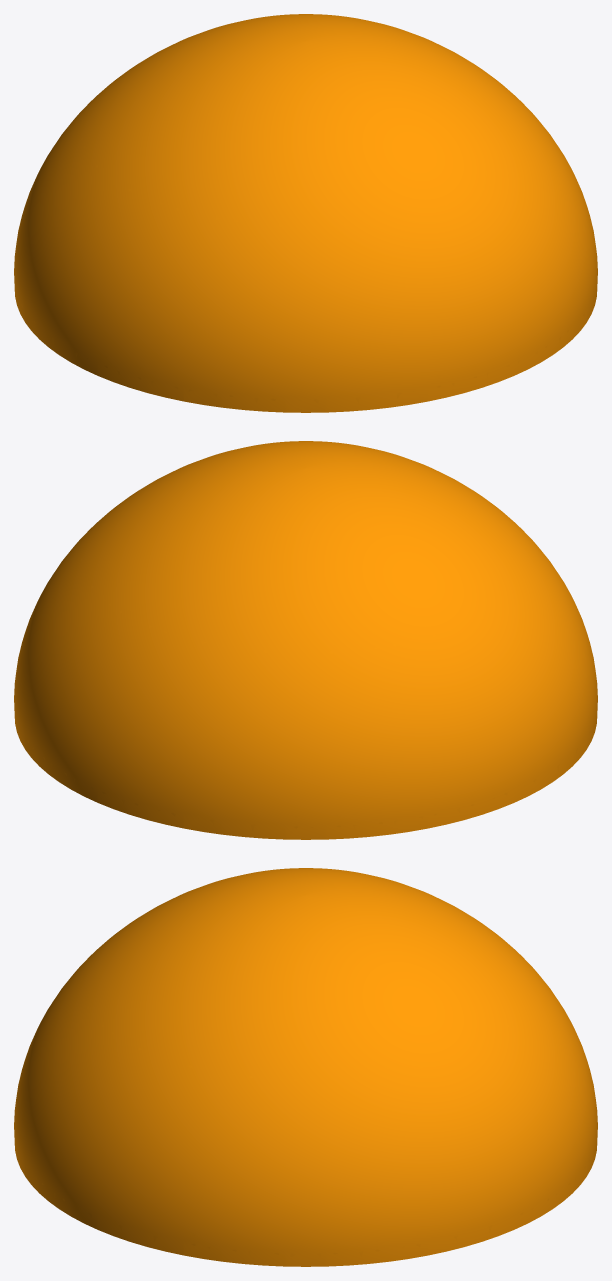
3 views of the same model, one above another, from view 1: azimuth 30°, elevation 25°; view 2: azimuth 150°, elevation 25°; view 3: azimuth 270°, elevation 25° (orthographic).
Parts seen in each view (by area): view 1: VIFS001; view 2: VIFS001; view 3: VIFS001.
Part boxes in pixels (box(x1,y1,x2,y2)): VIFS001: box(14, 14, 597, 412); VIFS001: box(14, 441, 597, 839); VIFS001: box(14, 868, 597, 1266).
Size of the model in its own units: 501 by 235 by 501.
